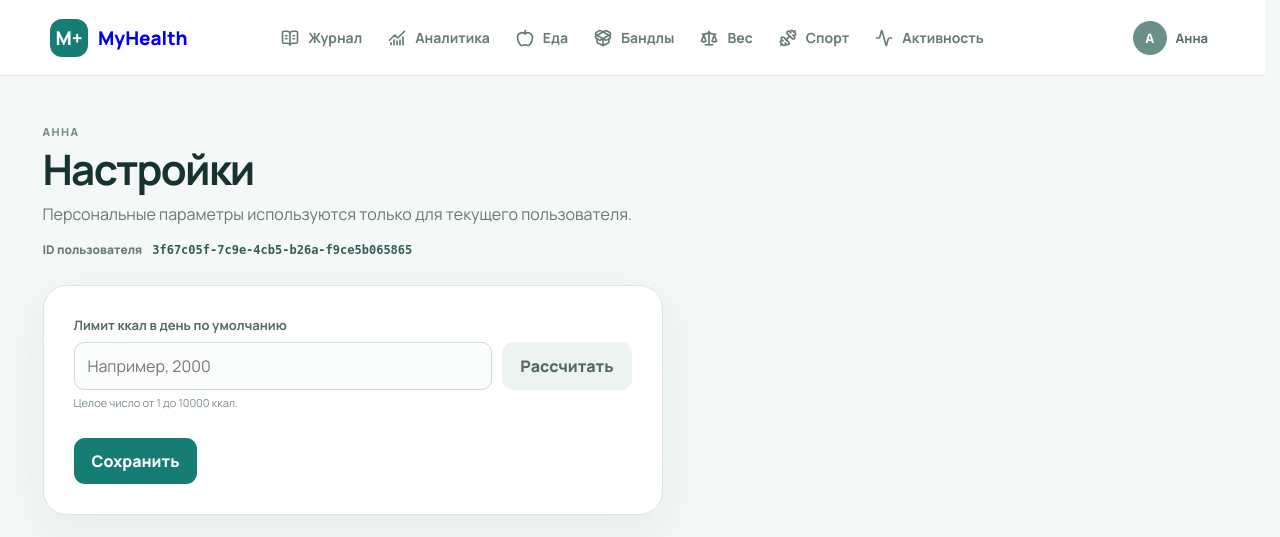
MyHealth SPA › показывает пустые настройки и сохраняет числовой лимит
expect the heading "Настройки" is shown: met, box [42, 140, 254, 198]
expect the text "3f67c05f-7c9e-4cb5-b26a-f9ce5b065865" is shown: met, box [152, 241, 412, 259]
Type "около 2500 ккал" into the field labelled "Лимит ккал в день по умолчанию".
click(283, 366); type("около 2500 ккал")  # box [74, 342, 492, 390]
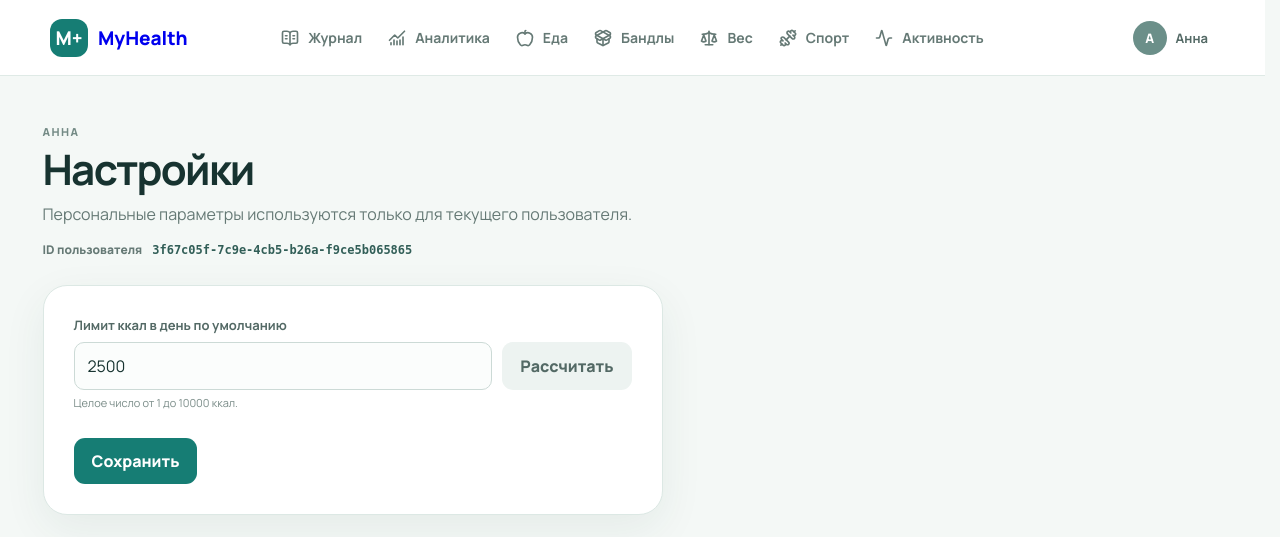
expect the field labelled "Лимит ккал в день по умолчанию" holds "2500": met, box [74, 342, 492, 390]
Click the button "Сохранить".
click(136, 461)  # box [74, 438, 198, 484]
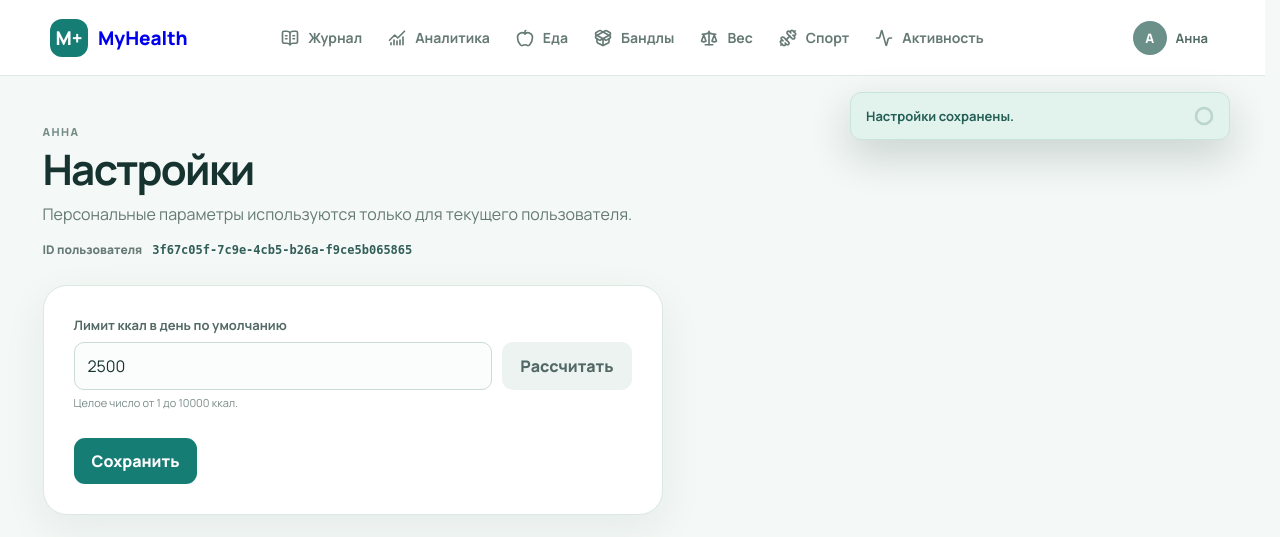
expect the text "Настройки сохранены." is shown: met, box [866, 107, 1014, 125]
